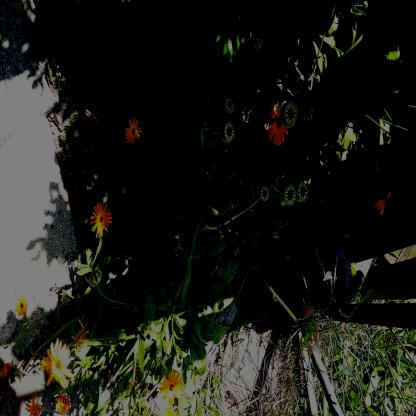marigold: (42, 337, 72, 387), (265, 101, 290, 146), (159, 371, 185, 405), (90, 201, 113, 237), (124, 116, 142, 145), (55, 394, 71, 414), (14, 296, 28, 318)
